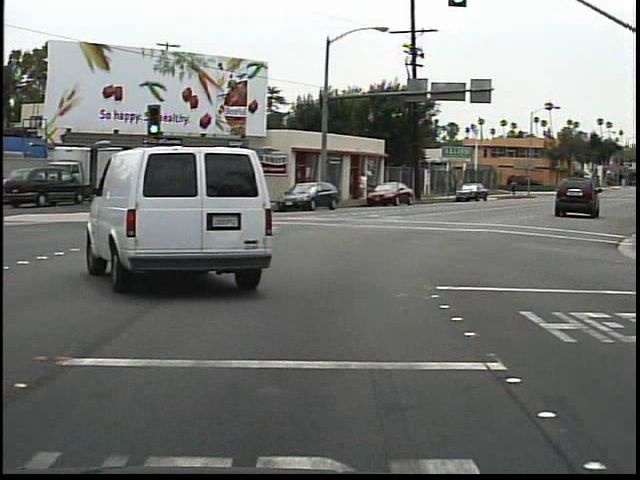person: (354, 169, 368, 202), (508, 175, 520, 200)
